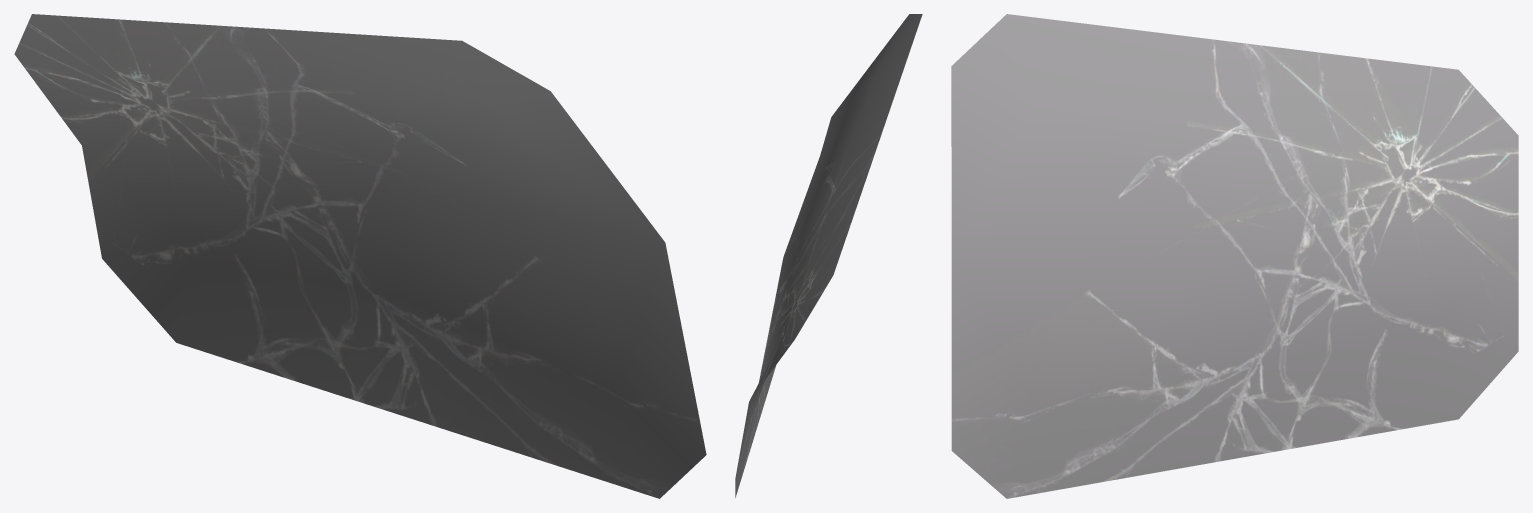
The model's file is 01_05_transporter_hatch01_broken_glass.dae.
The picture shows the model from 3 angles, left to right: view 1: azimuth 30°, elevation 25°; view 2: azimuth 150°, elevation 25°; view 3: azimuth 270°, elevation 25°; orthographic projection. The views are drawn at different scales.
Parts seen in each view (by area): view 1: hatch01; view 2: hatch01; view 3: hatch01.
Boxes of the visible parts, bbox=[...] form: hatch01: bbox=[14, 14, 706, 498]; hatch01: bbox=[735, 14, 922, 497]; hatch01: bbox=[951, 14, 1518, 498].
Bounding box in the file's own units: 0.8885 × 1.2 × 1.51.
